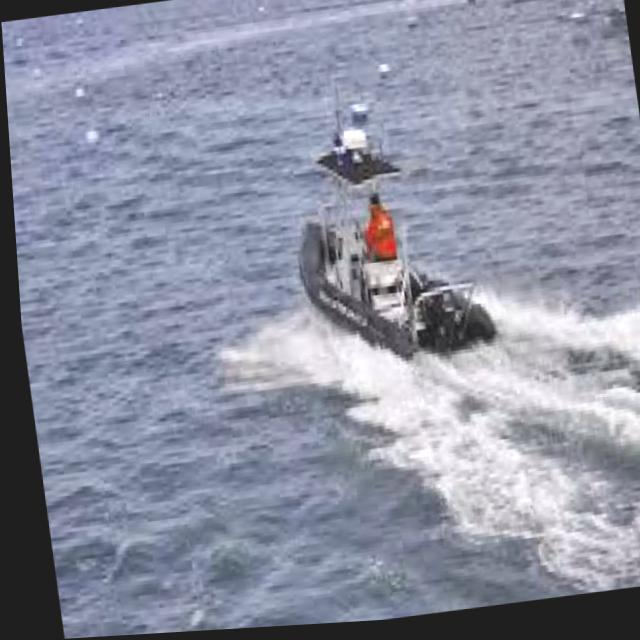ship2: (294, 114, 492, 365)
